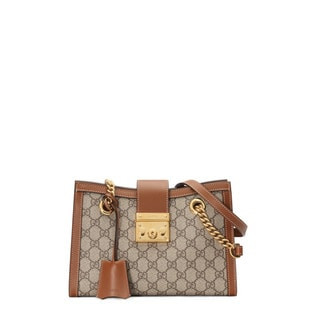Gucci: (59, 173, 251, 305), (129, 250, 219, 294)
